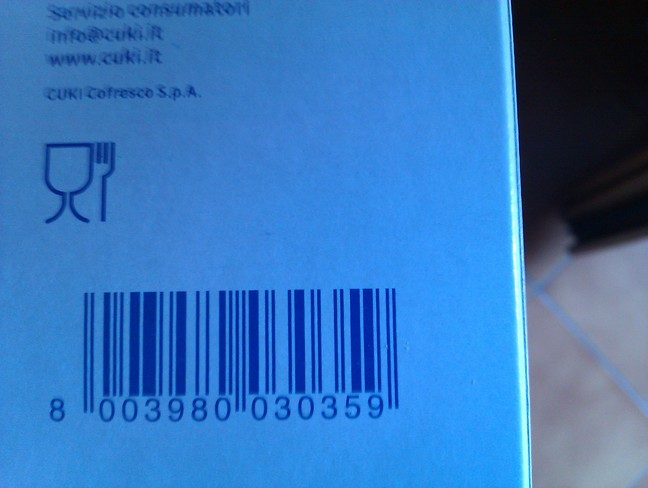detection: (25, 270, 409, 427)
